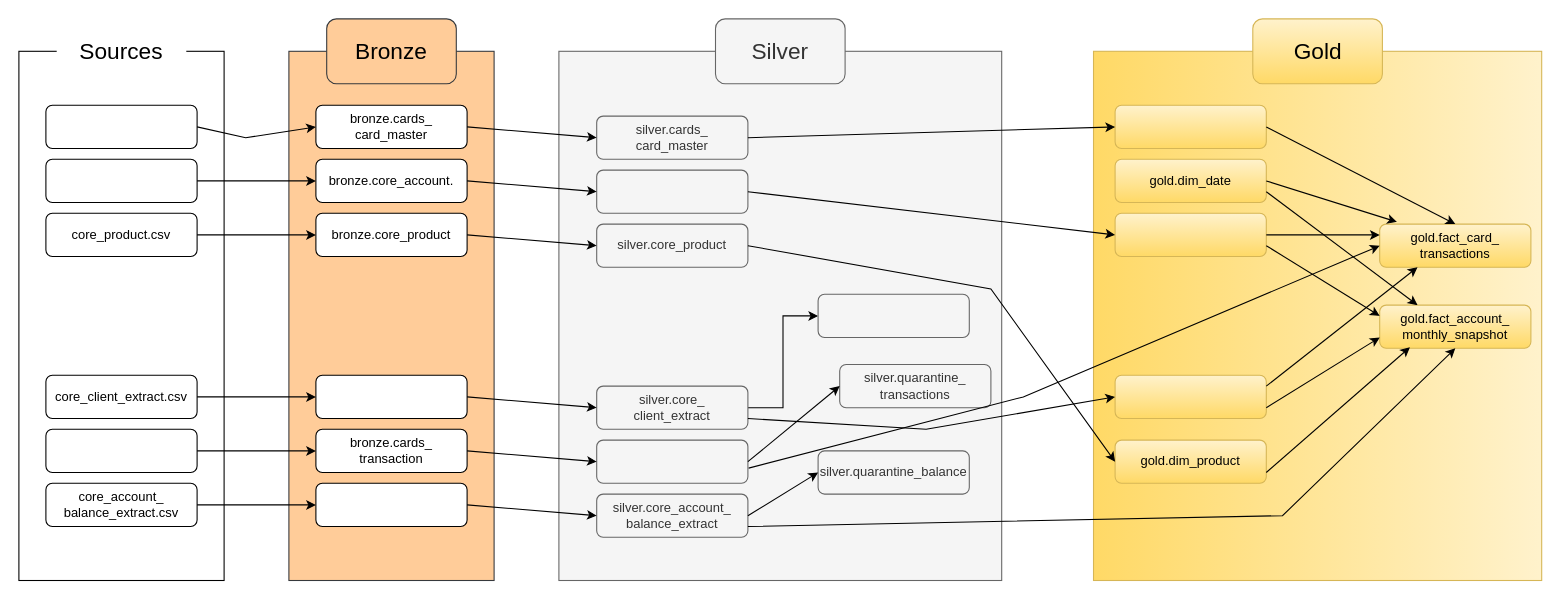
This 1561x599 diagram has some shape labels left out. Here are the shapes that lost their labels. From the top down, the box of each, then its label:
(45, 104, 197, 148): cards_card_master.csv
(1114, 104, 1266, 148): gold.dim_card
(45, 158, 197, 202): core_account.csv
(596, 169, 748, 213): silver.core_account
(1114, 212, 1266, 256): gold.dim_account
(817, 293, 969, 338): silver.possible_ duplicate_clients
(315, 374, 467, 418): bronze.core_ client_extract
(1114, 374, 1266, 418): gold.dim_client
(45, 428, 197, 473): cards_transaction.csv
(596, 439, 748, 483): silver.cards_ transaction
(315, 482, 467, 526): bronze.core_account_ balance_extract
